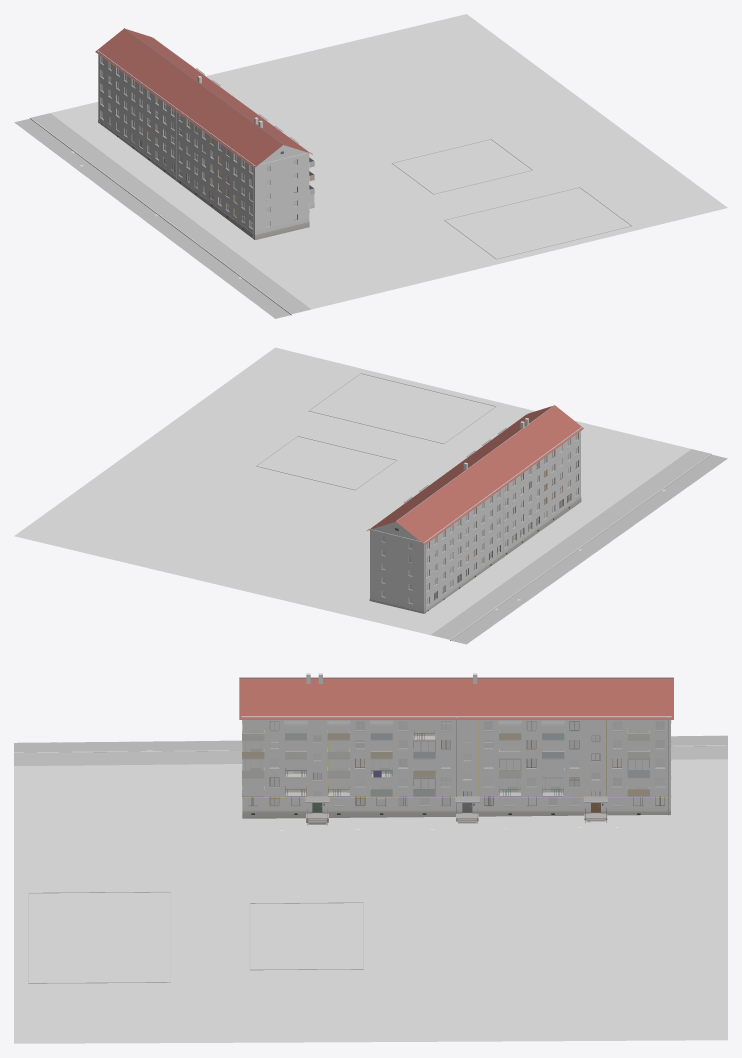
Rendered from chunk_1_0.glb.
The picture shows the model from 3 angles, top to bottom: view 1: azimuth 30°, elevation 25°; view 2: azimuth 150°, elevation 25°; view 3: azimuth 270°, elevation 25°; orthographic projection. The views are drawn at different scales.
Visible parts, largest first — view 1: base, detail; view 2: base, detail; view 3: base, detail.
Part boxes in pixels (left/top/right/bottom): base: left=14, top=14, right=727, bottom=318; detail: left=97, top=28, right=309, bottom=237; base: left=14, top=347, right=727, bottom=644; detail: left=369, top=405, right=581, bottom=613; base: left=14, top=673, right=727, bottom=1043; detail: left=239, top=677, right=673, bottom=825.
Size of what is drawn, in the model's own units: 100 by 20.4 by 100.
